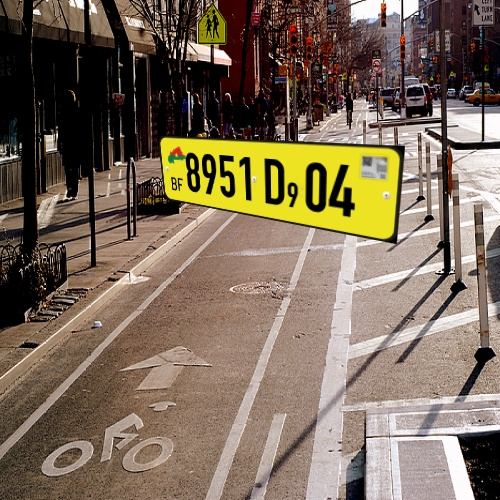plate: (139, 109, 420, 248)
